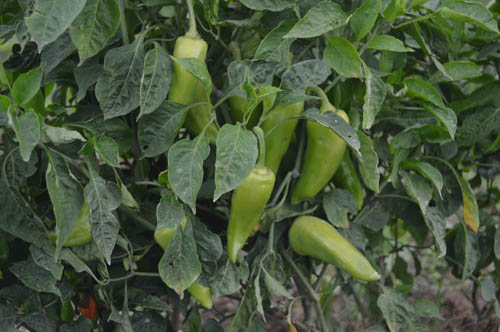ChiliPepper: (287, 213, 380, 281), (154, 217, 216, 310), (295, 113, 350, 214), (224, 167, 275, 264), (260, 96, 303, 175), (167, 36, 205, 110), (51, 206, 95, 252), (334, 160, 364, 203), (222, 86, 254, 126), (191, 76, 211, 139)
